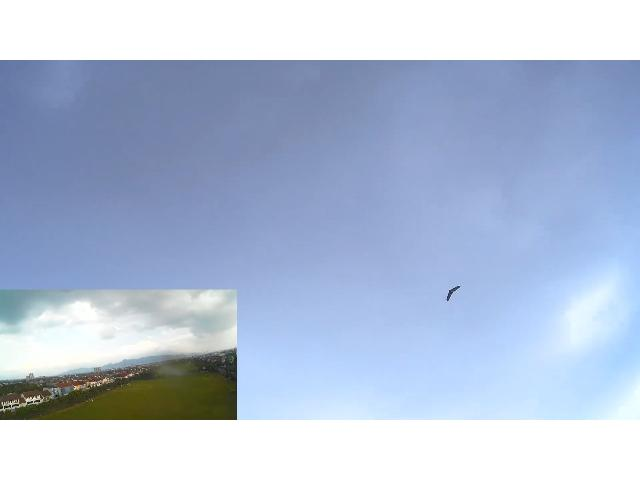Anti-Drone: (446, 286, 462, 302)
